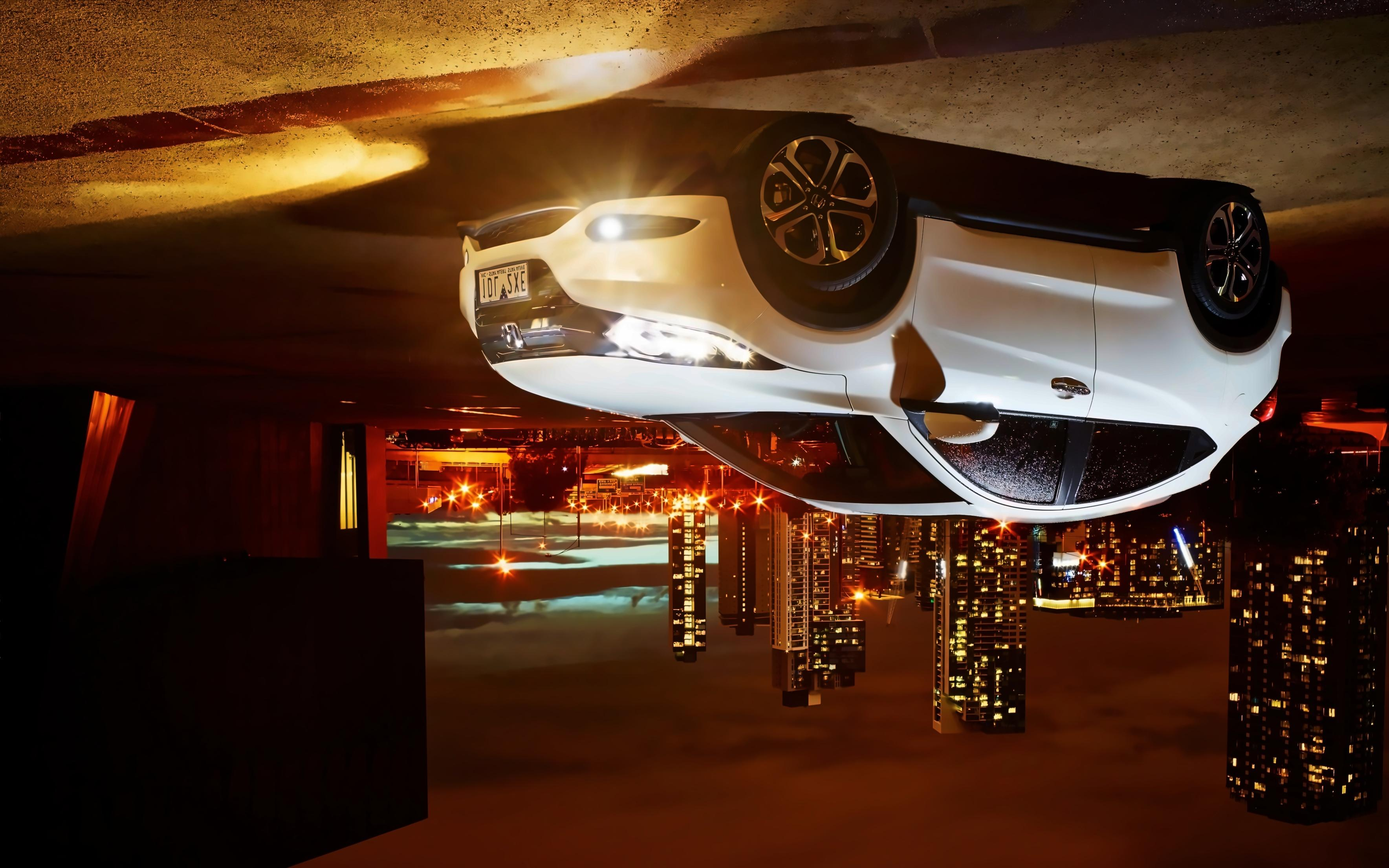Car hood: (483, 351, 855, 420)
Driver-s door - -F-R-: (893, 190, 1108, 538)
Fender - -F-R-: (745, 211, 930, 421)
Front bumper: (448, 185, 774, 338)
Headlight - -R-: (599, 310, 786, 369)
Passenger-s door - -R-R-: (1078, 197, 1234, 516)
Rear light - -R-: (1246, 380, 1281, 424)
Side mirror - -R-: (906, 398, 1003, 451)
